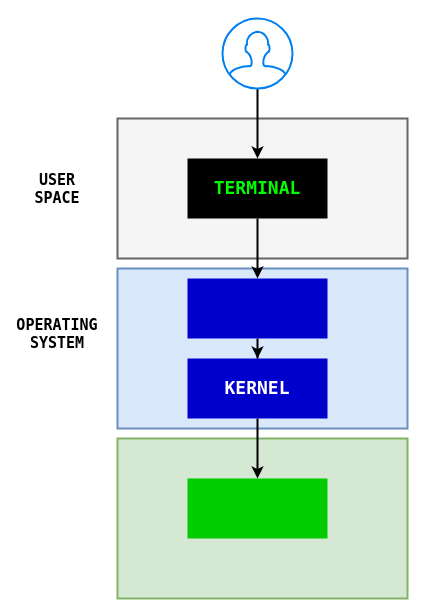
This 426x616 diagram has some shape labels left out. The box of each missing label's shape, as (x1, y1, x2, y2) in pixels:
HARDWARE: (187, 478, 327, 538)
SHELL: (187, 278, 327, 338)
